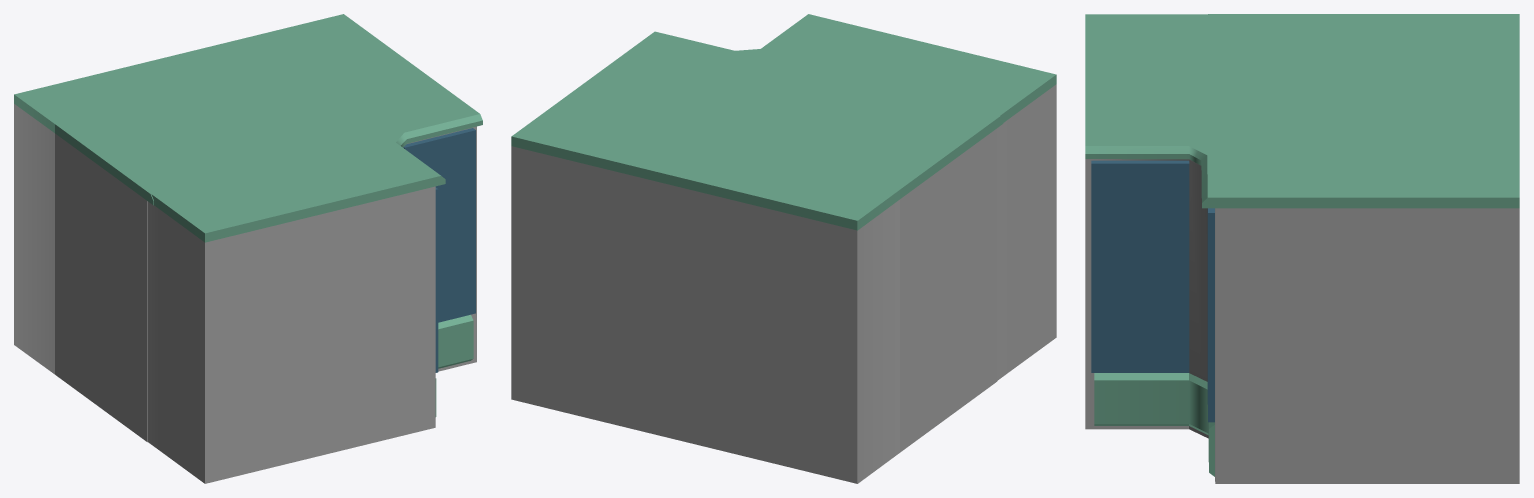
File: Counters_V1.fbx
3 views of the same model, side by side, from view 1: azimuth 30°, elevation 25°; view 2: azimuth 150°, elevation 25°; view 3: azimuth 270°, elevation 25° (orthographic). The views are drawn at different scales.
Visible parts, largest first — view 1: CounterCorner, Counter1; view 2: Counter1, CounterCorner; view 3: Counter1, CounterCorner.
Boxes of the visible parts, <box> form: CounterCorner: <box>14,15,482,483</box>; Counter1: <box>17,14,479,442</box>; Counter1: <box>511,31,1003,483</box>; CounterCorner: <box>515,14,1056,483</box>; Counter1: <box>1205,14,1519,483</box>; CounterCorner: <box>1085,14,1519,483</box>.
Bounding box in the file's own units: 100 × 72.68 × 100.
